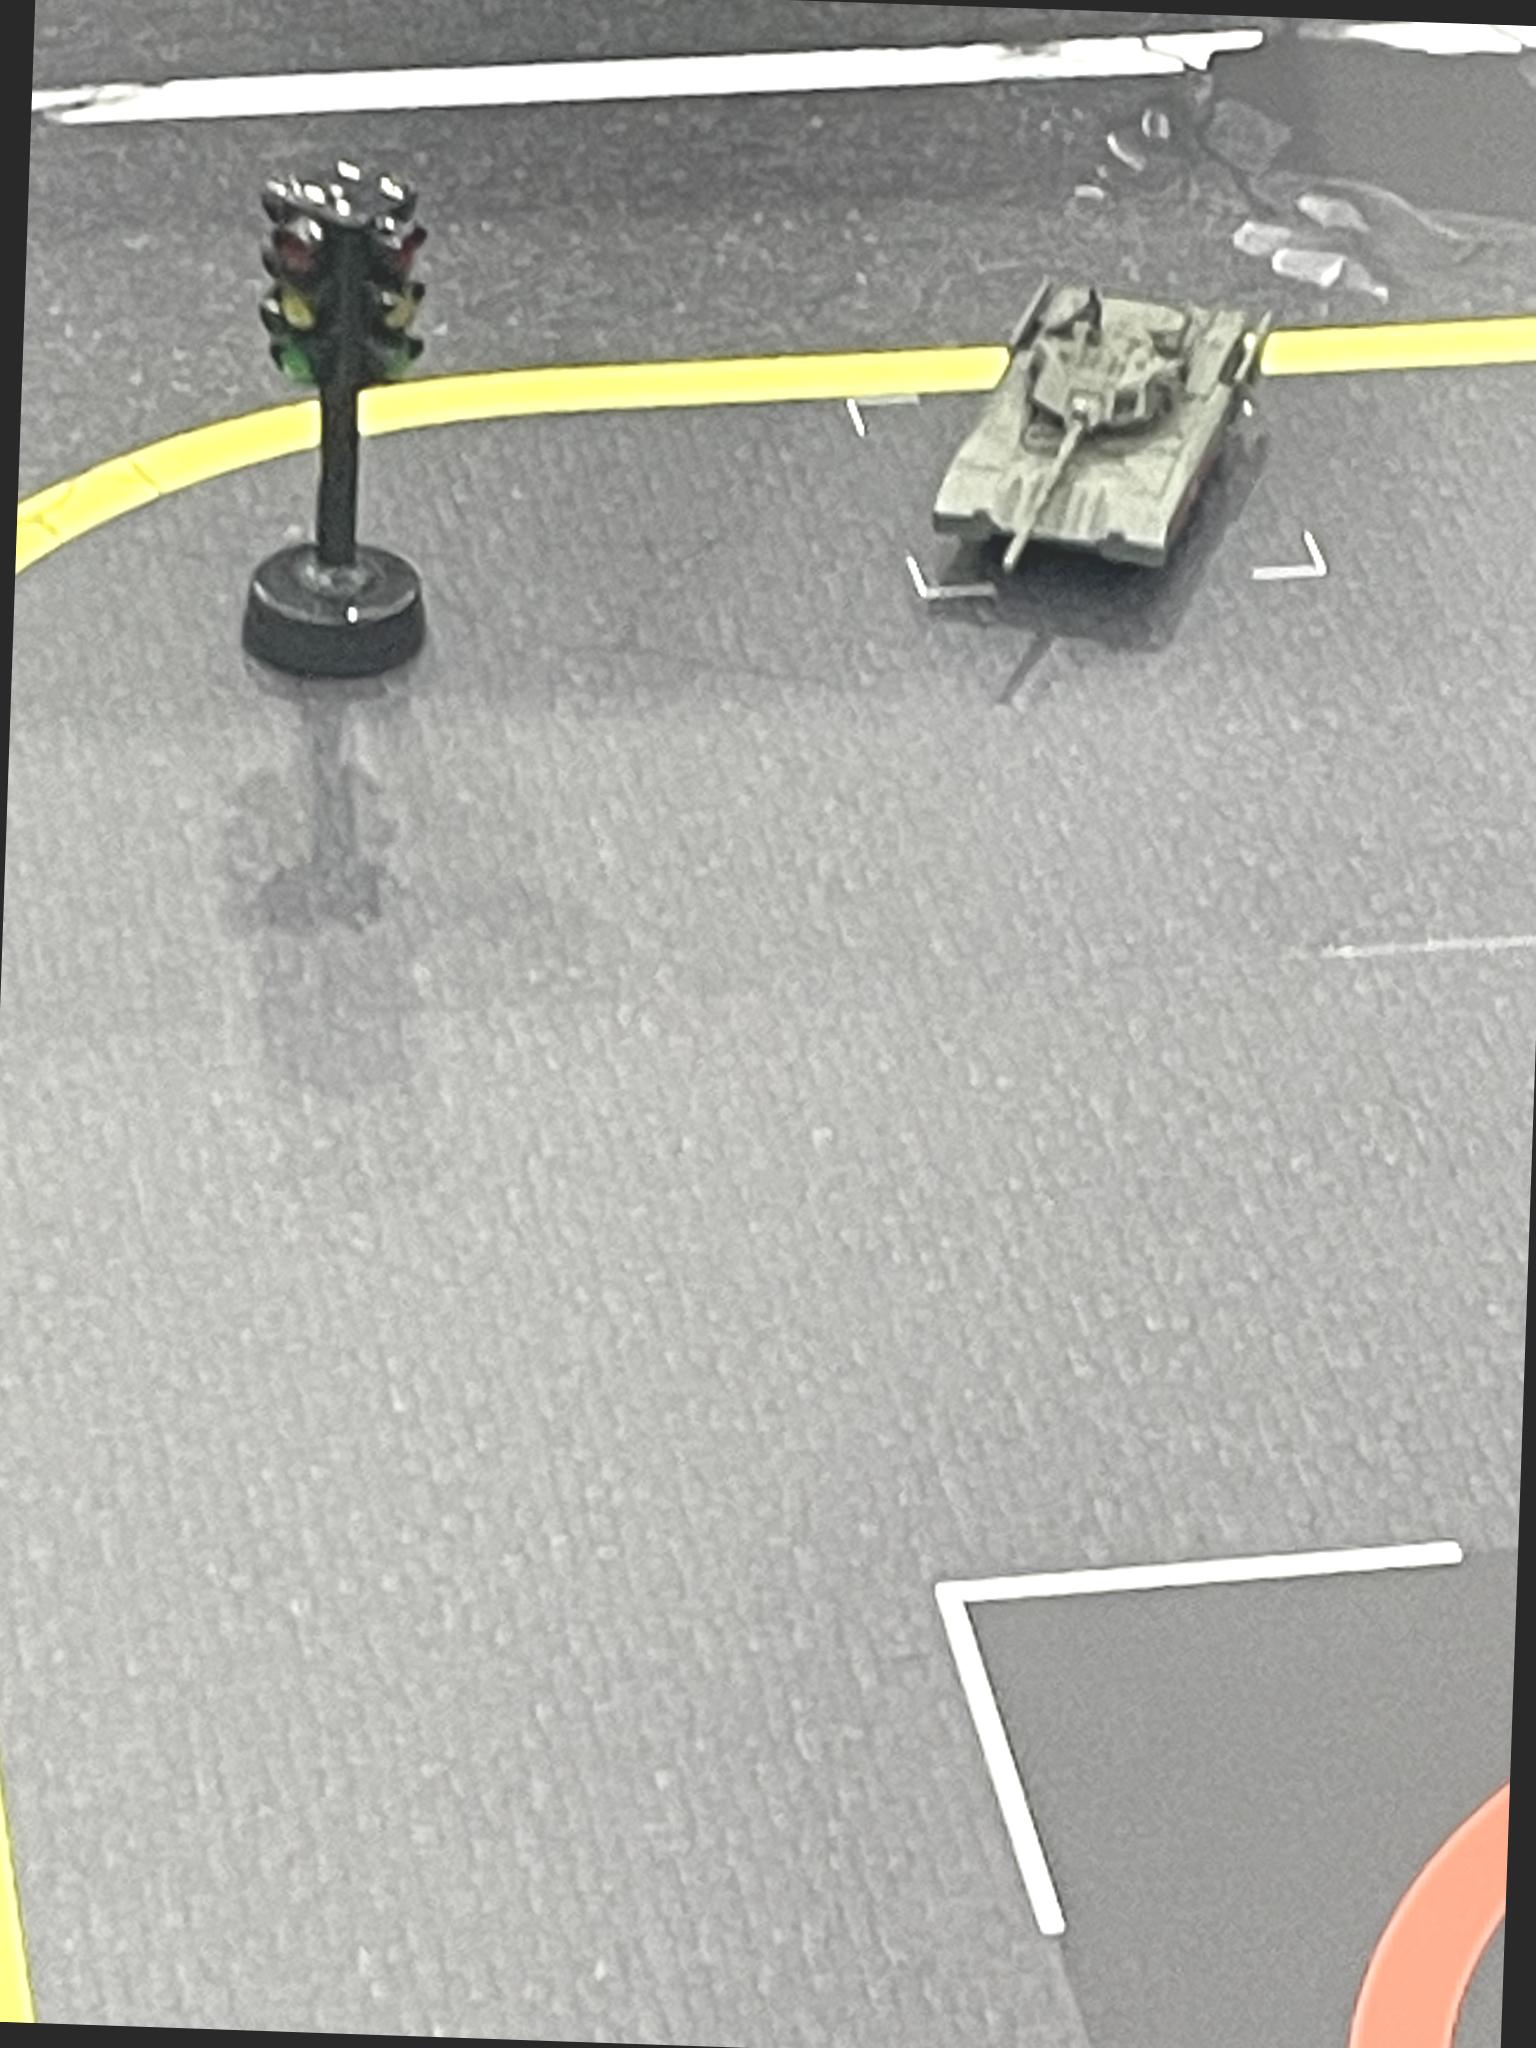Tank: (928, 260, 1286, 605)
